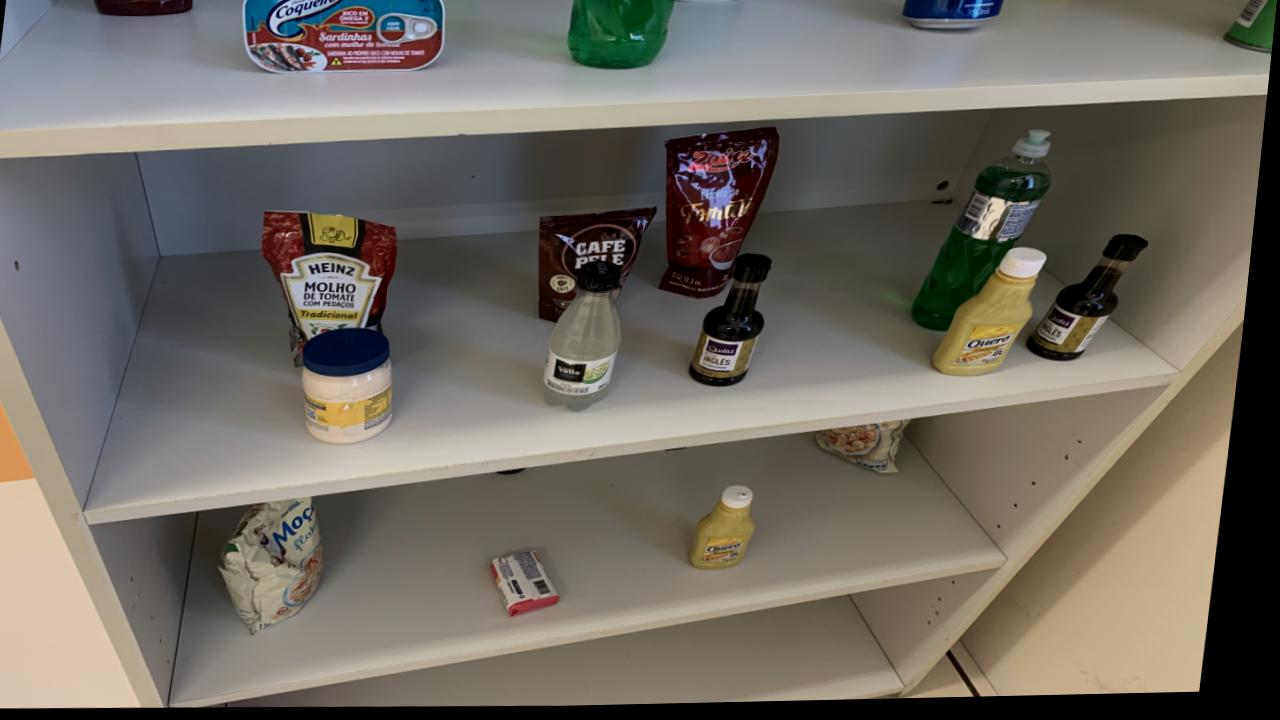Cleaner-Cleanup_Items: (675, 0, 744, 6)
Coffee-Pantry_Items: (544, 210, 662, 324)
Detergent-Cleanup_Items: (918, 135, 1056, 334), (568, 0, 675, 71)
English_Sauce-Pantry_Items: (1035, 240, 1152, 366), (698, 259, 776, 390)
Flakes-Snacks: (232, 499, 336, 636), (826, 424, 918, 478)
Mayonnaise-Pantry_Items: (310, 330, 402, 444)
Mustard-Pantry_Items: (941, 253, 1051, 381), (702, 489, 768, 574)
Pringles-Snacks: (1225, 0, 1278, 60)
Soap-Cleanup_Items: (504, 553, 573, 619)
Soda-Drinks: (551, 264, 629, 414)
Tomato_Sauce-Pantry_Items: (266, 212, 404, 368), (666, 131, 783, 302), (93, 0, 193, 17)
Tonic-Drinks: (903, 0, 1005, 34)
Tuna_Can-Pantry_Items: (242, 0, 446, 75)
